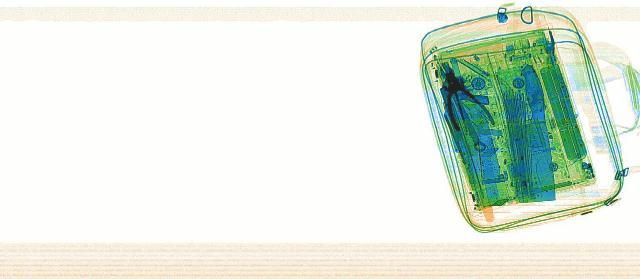Gun: (438, 60, 492, 106)
Knife: (490, 64, 568, 201)
